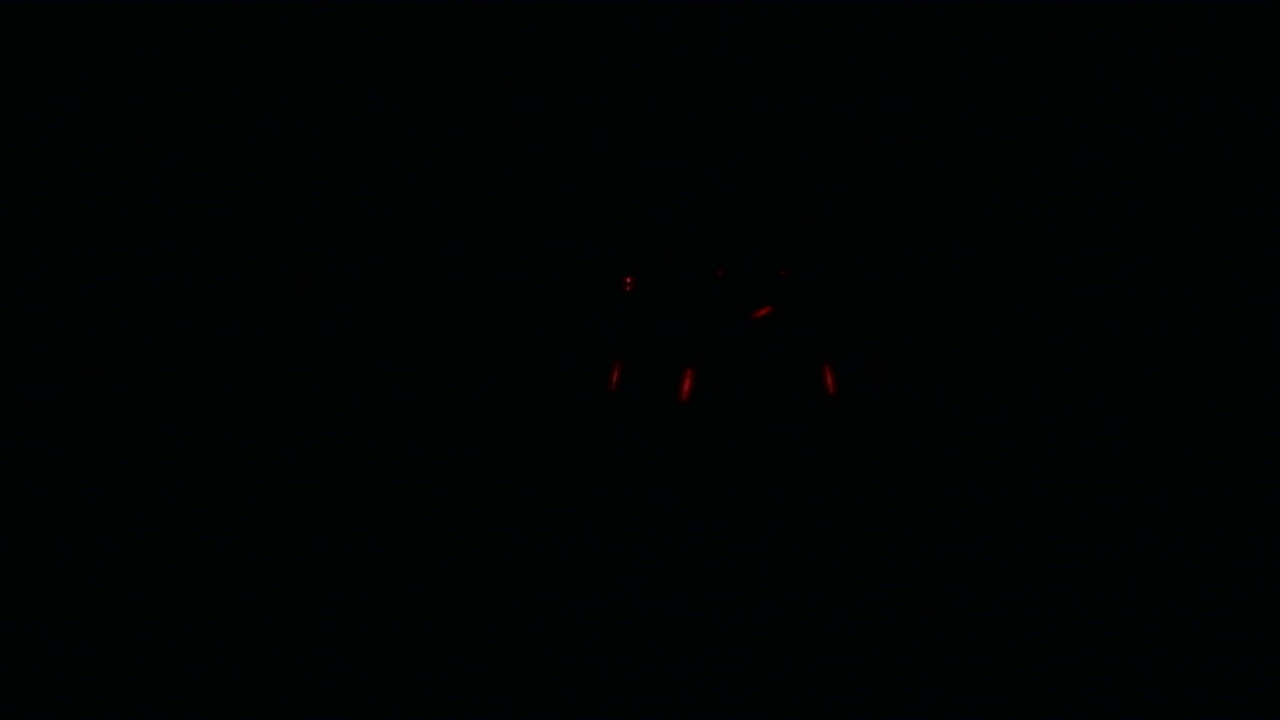lamp: (671, 364, 697, 401), (822, 362, 845, 400), (607, 365, 618, 398)
notpair1: (673, 364, 844, 400)
pair1: (609, 367, 695, 400)
